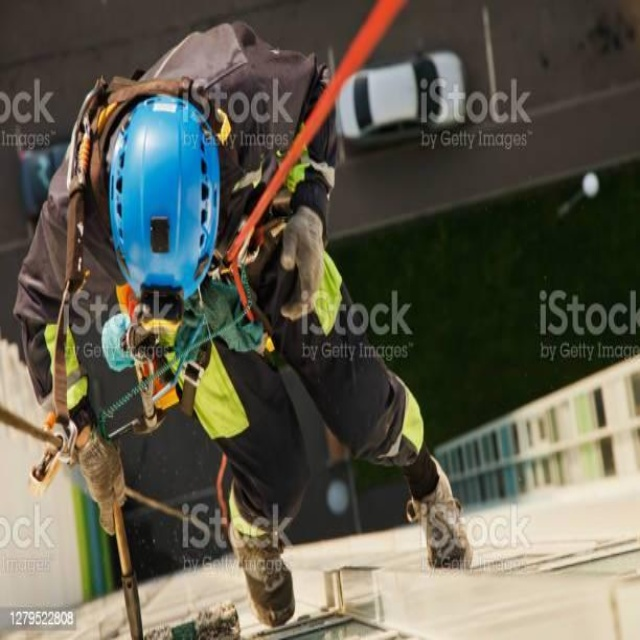Arnes_seguridad: (52, 62, 333, 425)
